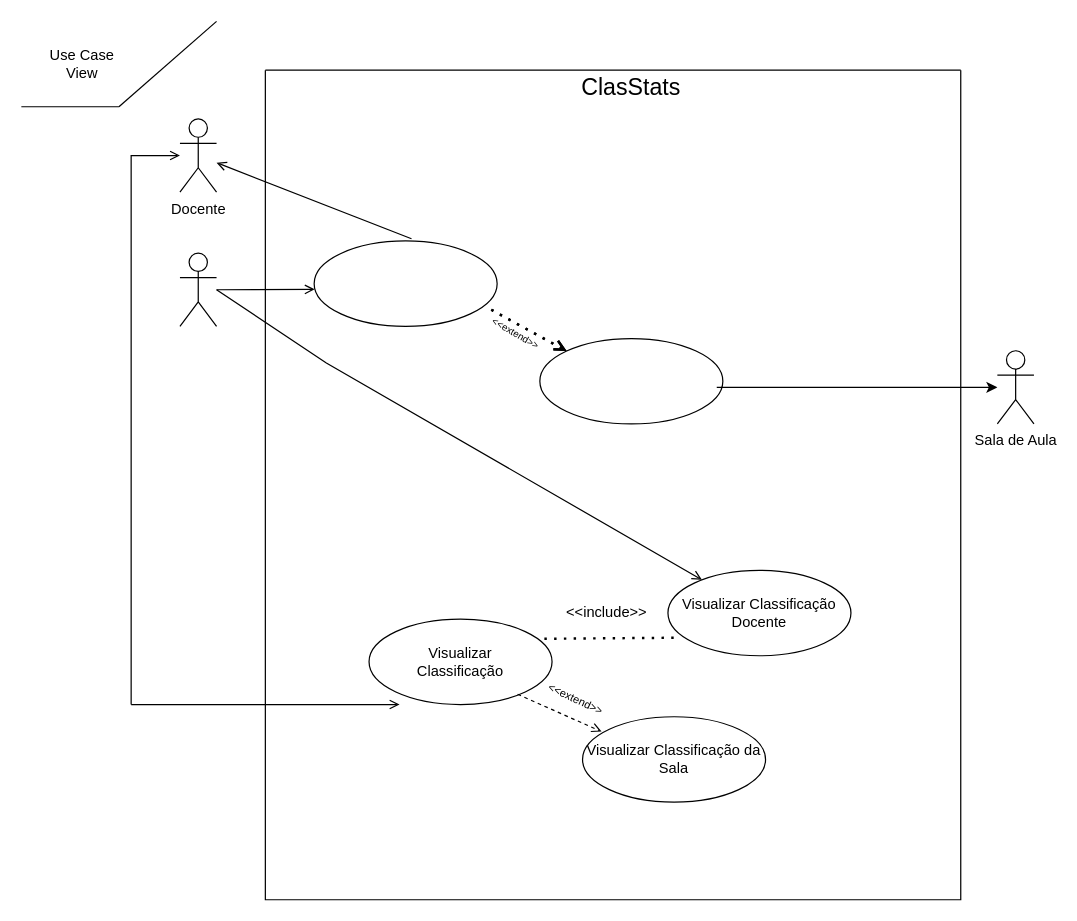
Some shapes in this 1077 by 921 pixel diagram are drawn without their labels. The shapes that lost their labels are listed below. From the top down, each one's box as (x1, y1, x2, y2) in pixels, then its label:
(179, 252, 217, 326): Estudante
(313, 240, 497, 326): Classificar Desempenho do Docente
(539, 337, 723, 424): Classificar Condições da Aula
